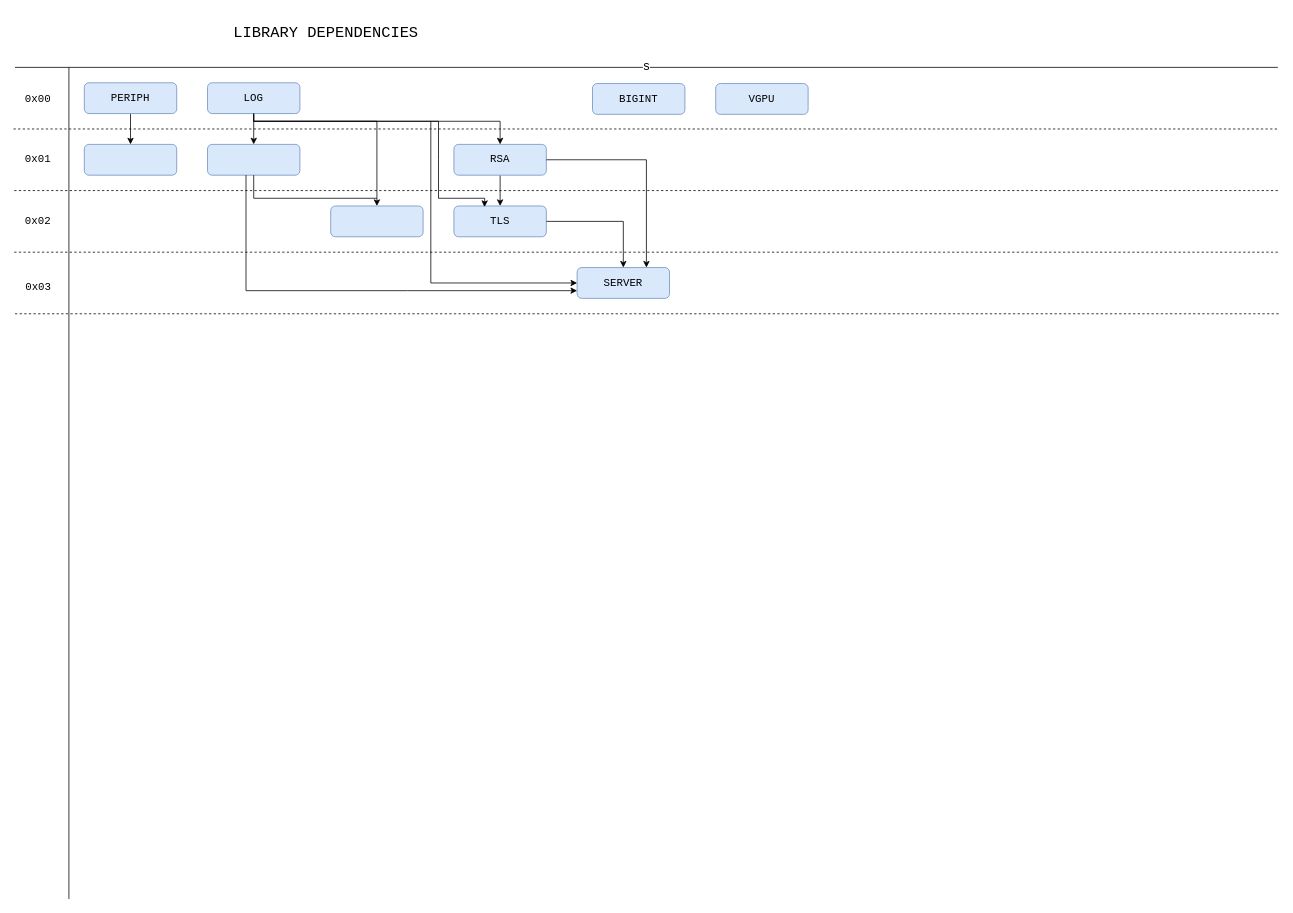
This 1293x913 diagram has some shape labels left out. Each missing label, with the centre of its shape:
"EHANDLER" goes at point 376,221.
"PERIPH_IM" goes at point 130,159.
"UTILS" goes at point 253,159.
